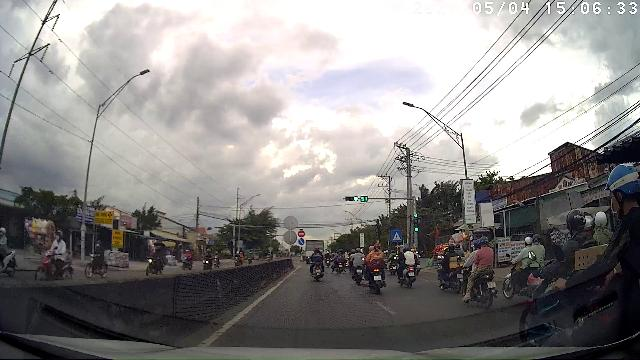102-cam-di-nguoc-chieu: (298, 230, 306, 236)
302a-huong-phai-di-vong-chuong-ngai-vat-1: (299, 239, 305, 246)
423a-duong-nguoi-di-bo-sang-ngang-1: (392, 230, 402, 240)
